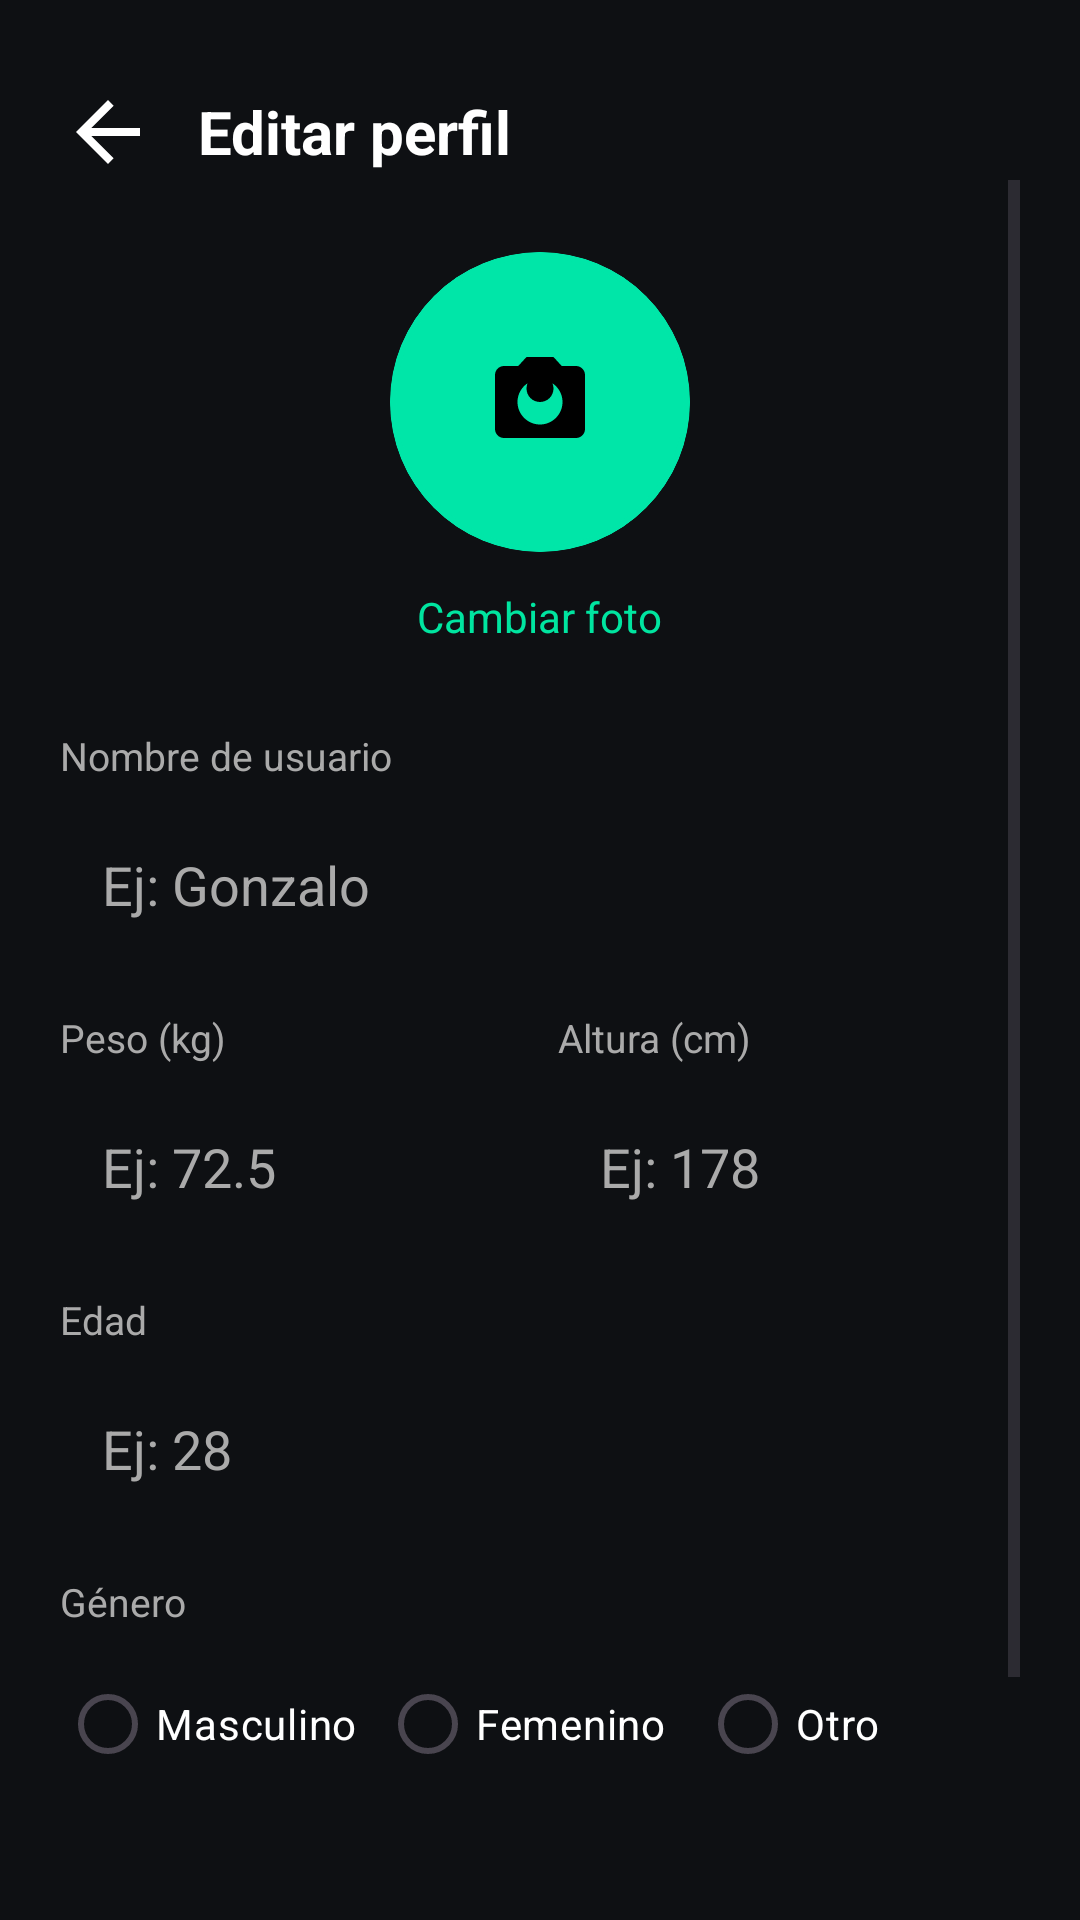

Screen size 1080x1920. Icon name, then its box in pixels as (x1, y1, x2, y2):
Volver: (76, 100, 140, 164)
